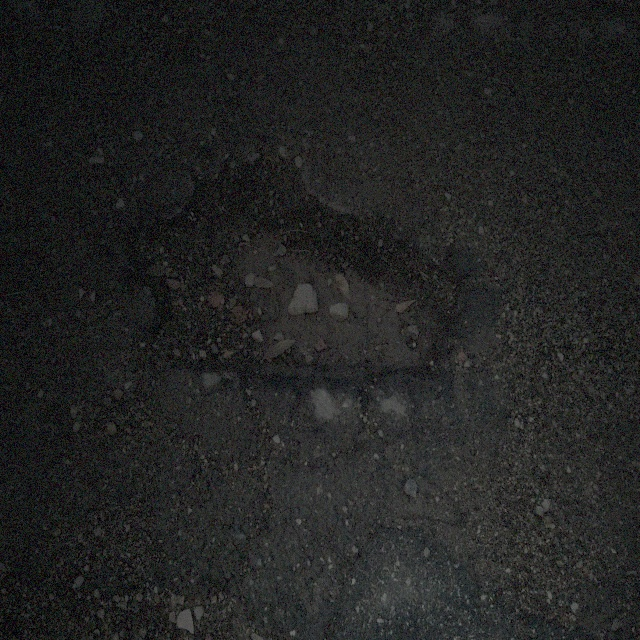pothole: (127, 139, 468, 405)
